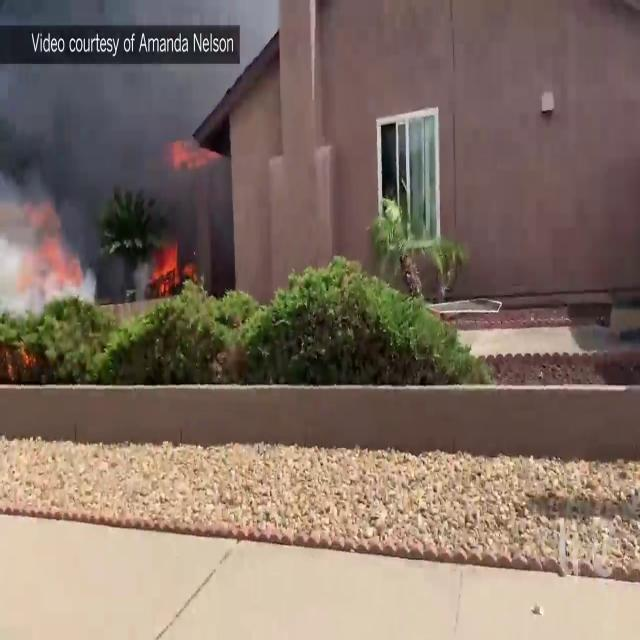Fire: (148, 236, 182, 296)
Smoke: (0, 0, 210, 292)
